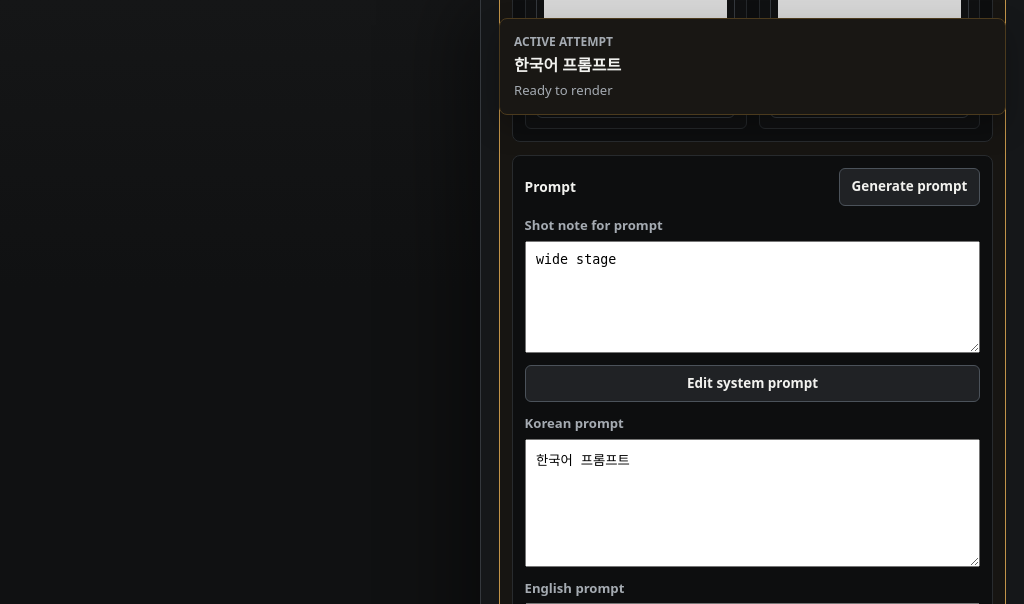
Test: ShotDrawer asset attempts › loads the studio-wide system prompt default into the attempt editor
(page scrolled)
Click the button with aria-label "Edit system prompt for attempt attempt-1" at (752, 384), box [525,365,980,402]
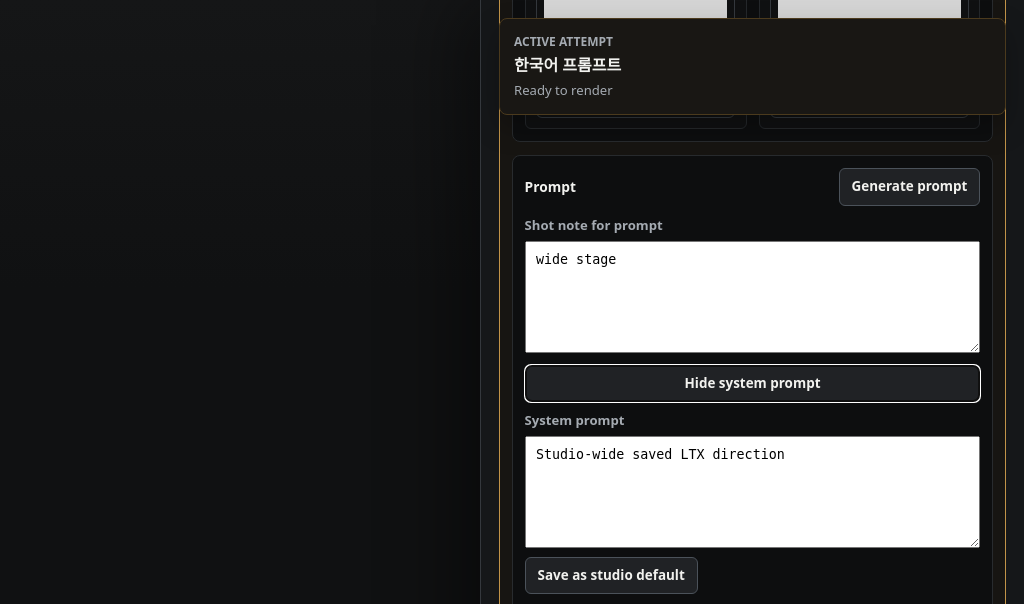
Now the text box named "System prompt for attempt attempt-1" holds "Studio-wide saved LTX direction", box [525,436,980,548]
